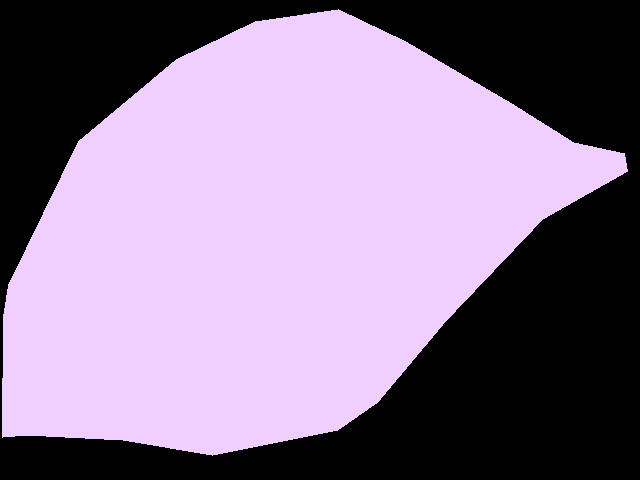Train: (2, 9, 628, 455)
